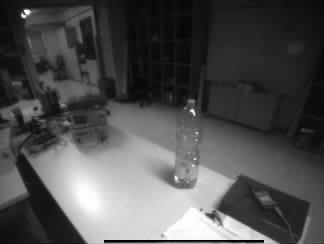Bottle: (176, 100, 199, 185)
